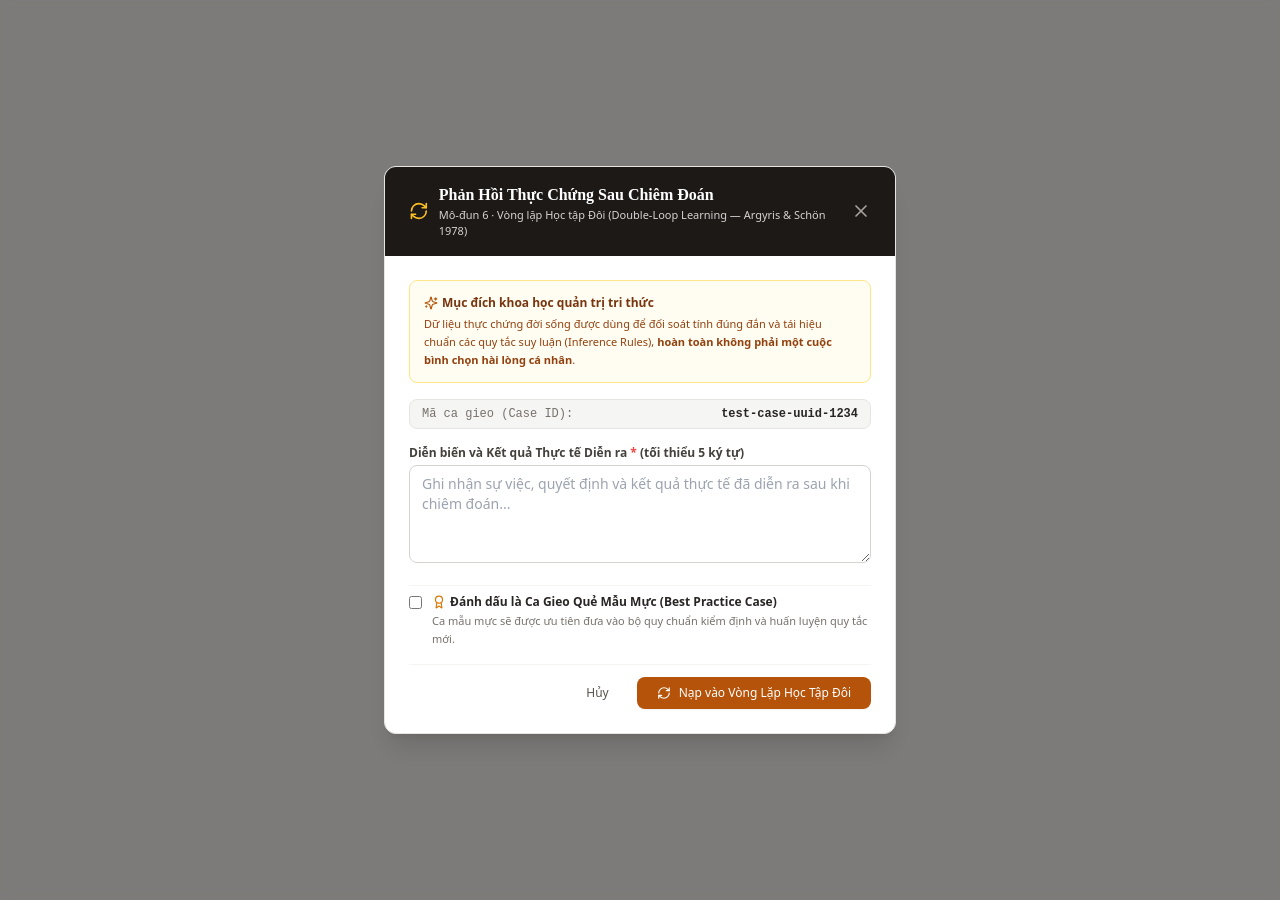
it: Gate 10: Quản Trị Tri Thức & Kiểm Duyệt (Knowledge Governance) › 4. Phản Hồi Thực Chứng & Vòng Lặp Học Tập Đôi (FeedbackModal) › validate độ dài tối thiểu 5 ký tự cho kết quả thực chứng
Note: Nhập 3 ký tự (ít hơn 5)
In the text box with placeholder "Ghi nhận sự việc, quyết định": (640, 514) left=409, top=465, right=871, bottom=563, type "abc"
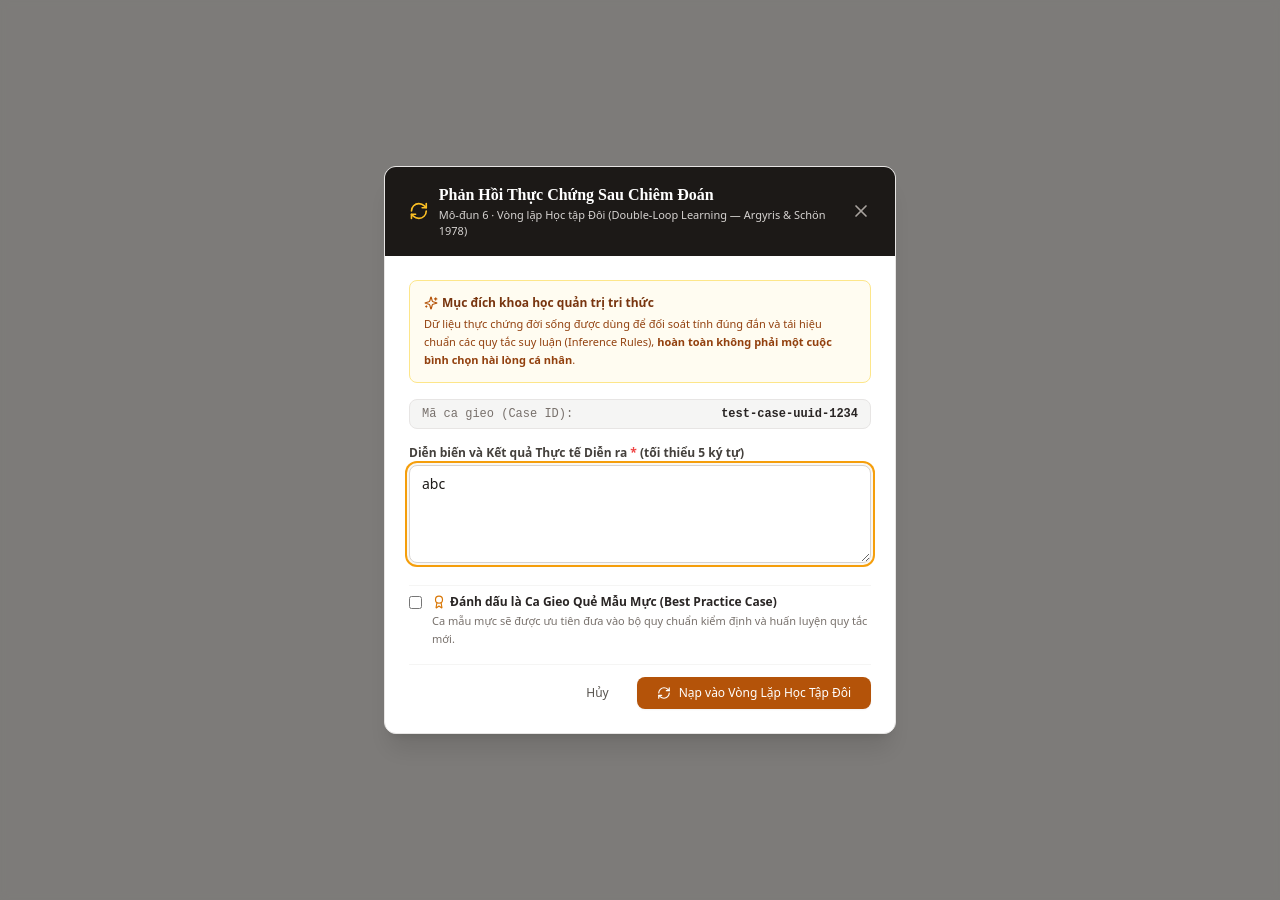
Click the button "Nạp vào Vòng Lặp Học Tập Đôi": click(754, 693) left=637, top=677, right=871, bottom=709
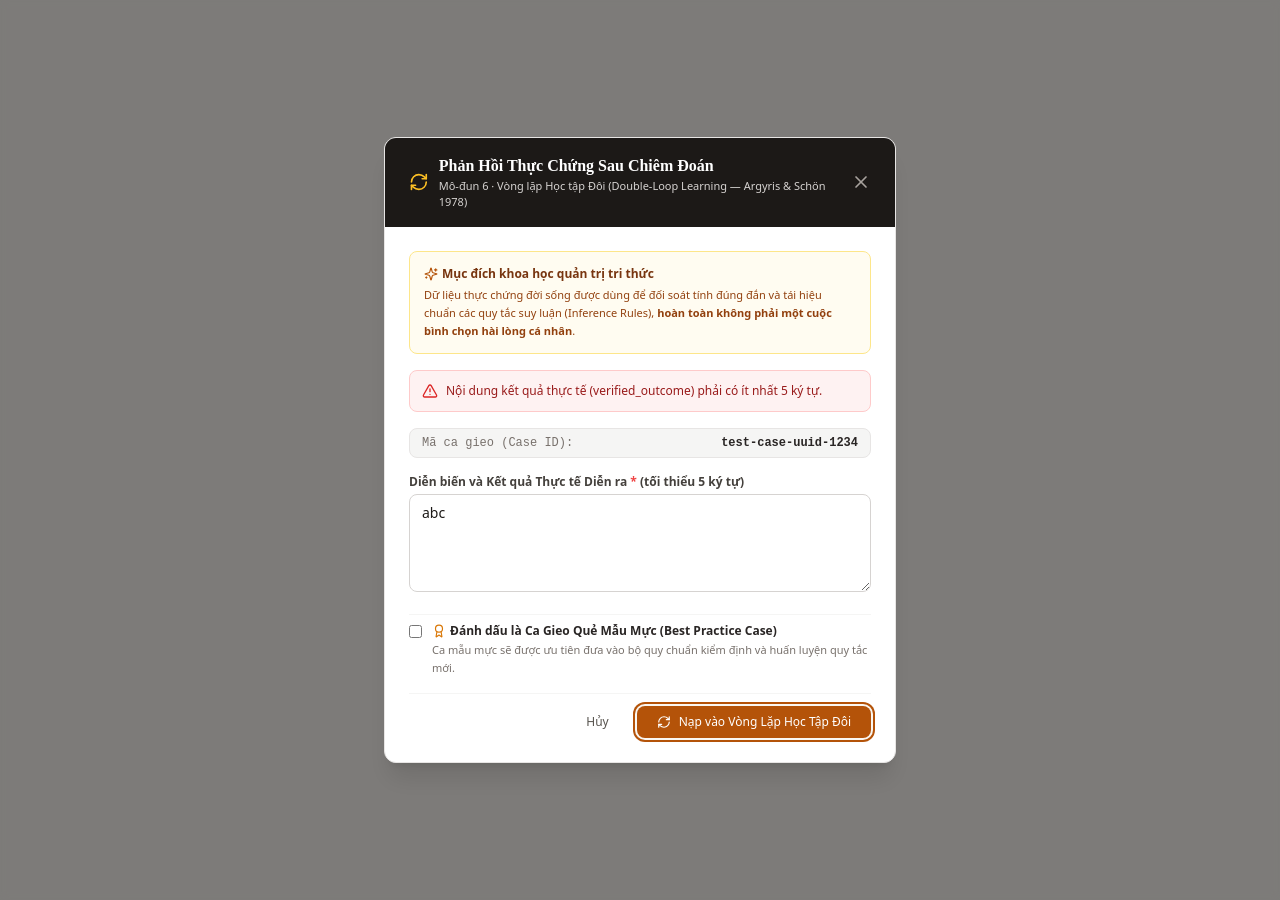
Expected: the text "phải có ít nhất 5 ký tự" is shown, left=446, top=382, right=822, bottom=399
